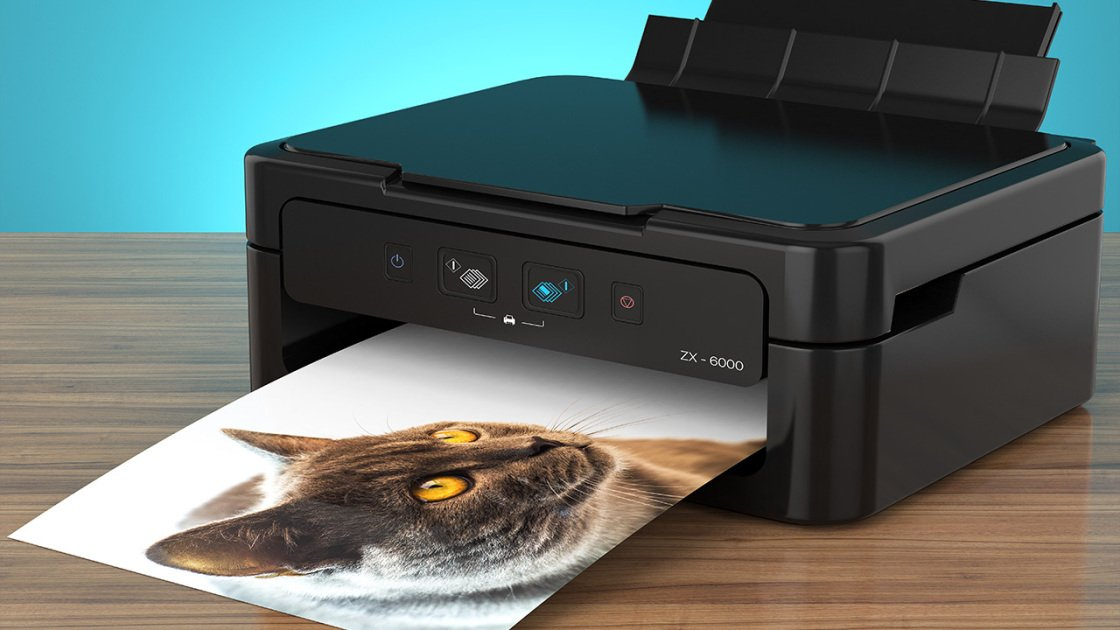printer: (132, 2, 1111, 535)
